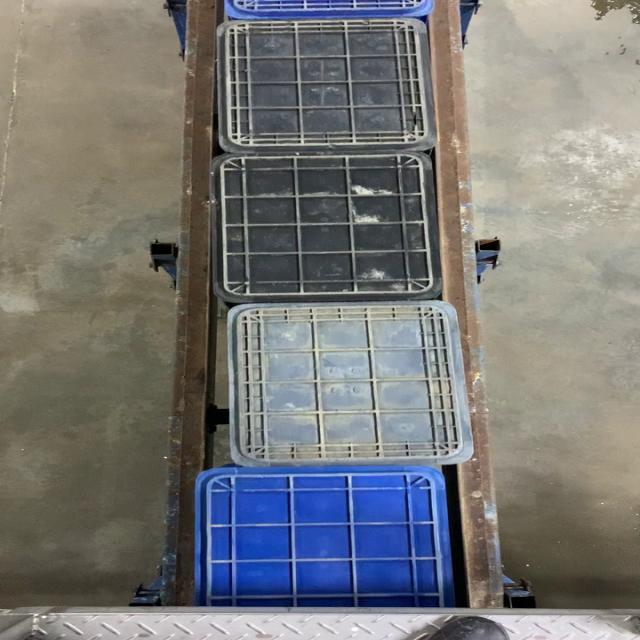Box: (223, 305, 479, 469), (213, 156, 440, 306), (212, 19, 438, 155)
